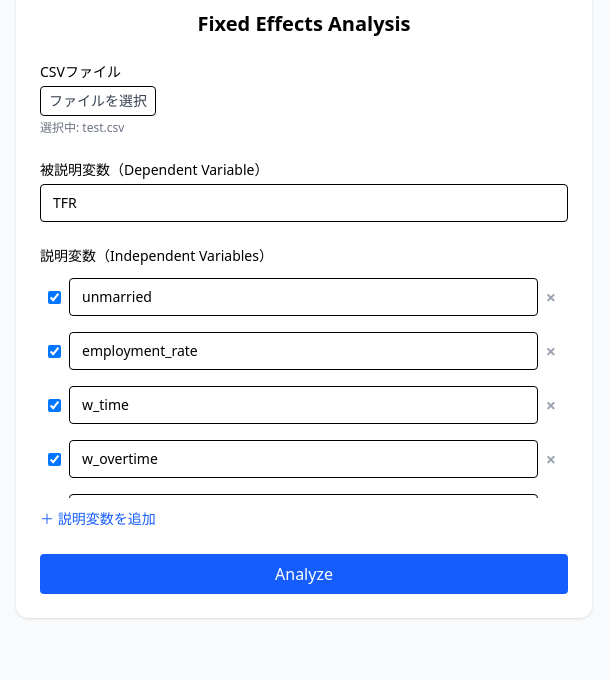
Scenario: AnalysisPage - Integration Test › displays error message when API call fails
Earlier steps of the test are not shown.
Expected: the text "選択中: test.csv" is shown, left=40, top=119, right=124, bottom=136
Click the button "Analyze": (304, 574) left=40, top=554, right=568, bottom=594
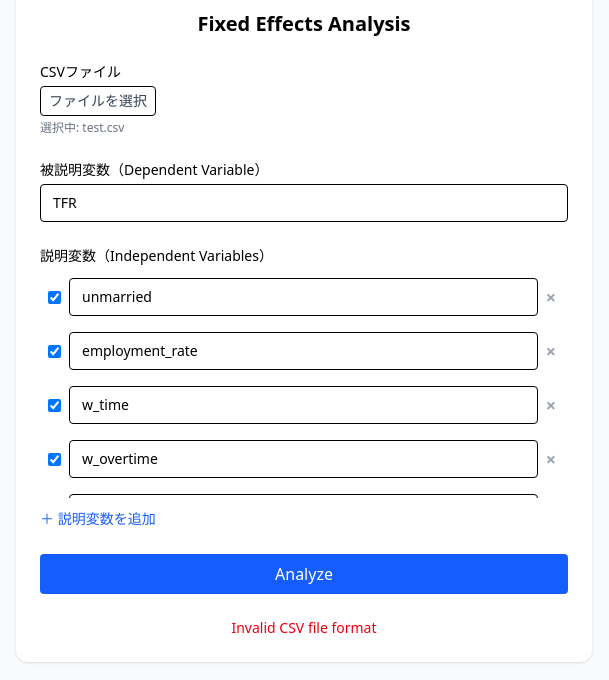
Now the text "Invalid CSV file format" is shown, box left=232, top=618, right=377, bottom=637
